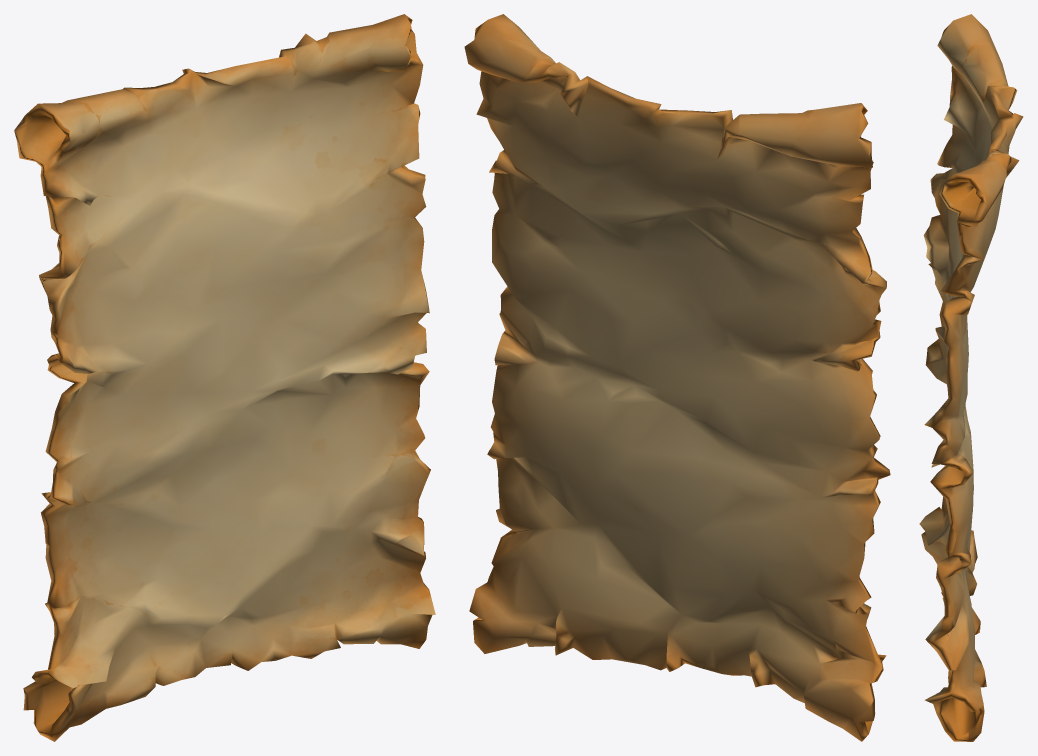
Rendered from parchement_sheet.fbx.
The picture shows the model from 3 angles, left to right: view 1: azimuth 30°, elevation 25°; view 2: azimuth 150°, elevation 25°; view 3: azimuth 270°, elevation 25°; orthographic projection. The views are drawn at different scales.
Parts seen in each view (by area): view 1: tripo_node_f7d81ffa; view 2: tripo_node_f7d81ffa; view 3: tripo_node_f7d81ffa.
Boxes of the visible parts, x1,y1,x2,y2 form: tripo_node_f7d81ffa: (14, 14, 435, 741); tripo_node_f7d81ffa: (464, 14, 890, 741); tripo_node_f7d81ffa: (919, 14, 1023, 741).
Bounding box in the file's own units: 66.67 × 16.7 × 100.
1 material, 1 textured.
